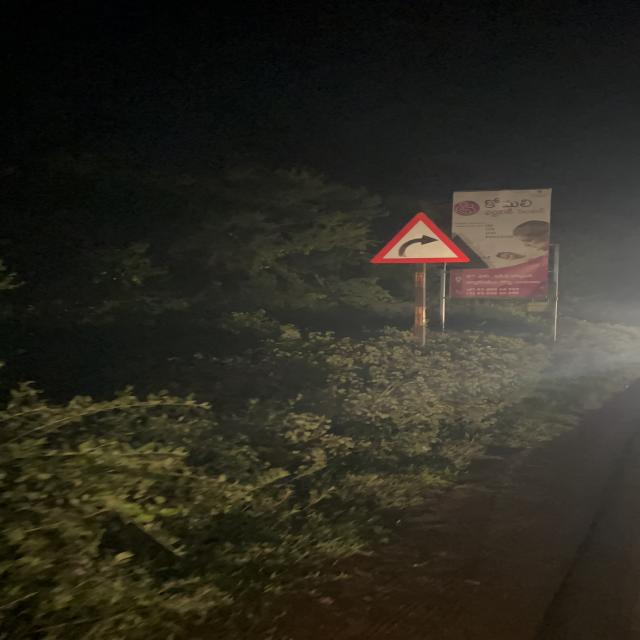Righthand_curve: (371, 213, 472, 264)
